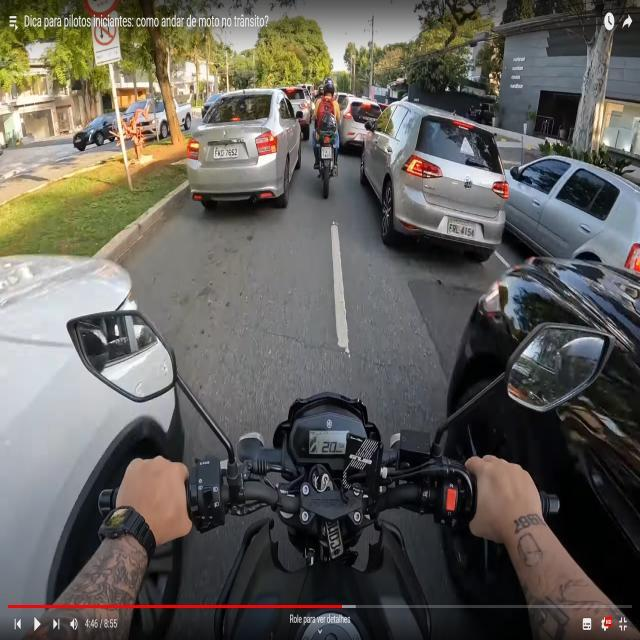placa_moto: (321, 146, 333, 161)
